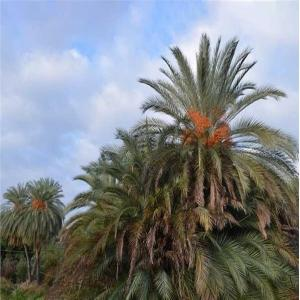palm tree: (52, 31, 299, 299), (20, 176, 64, 282), (1, 181, 32, 283)
